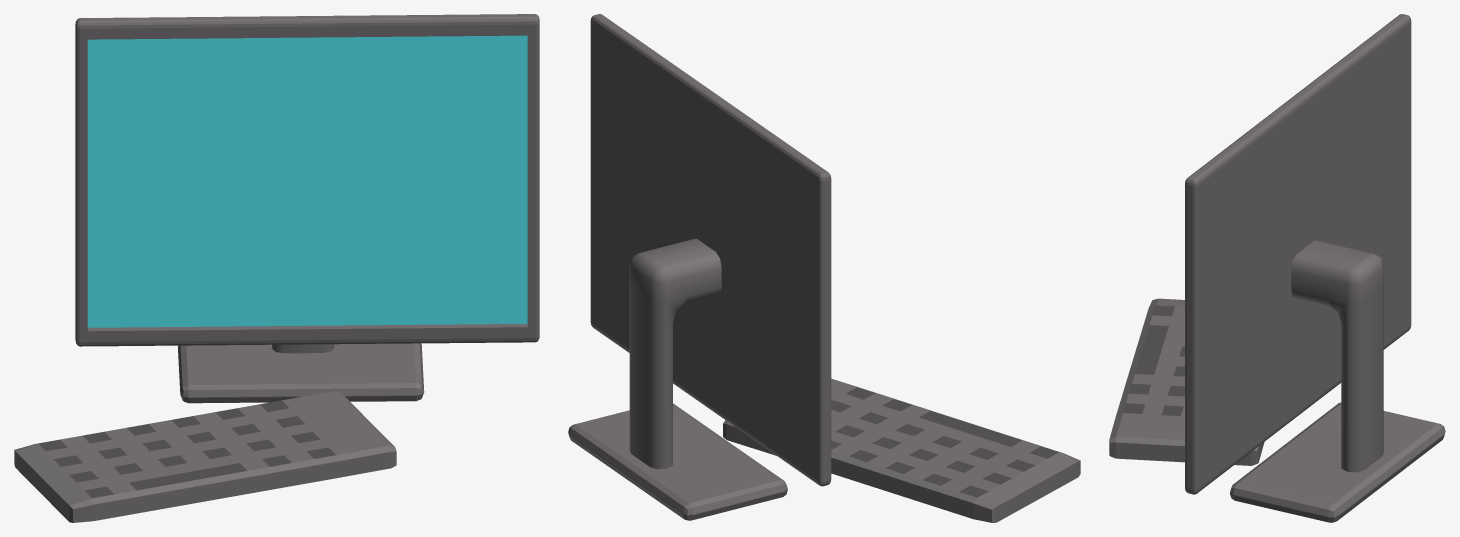
3 renders of one model, left to right at view 1: azimuth 30°, elevation 25°; view 2: azimuth 150°, elevation 25°; view 3: azimuth 270°, elevation 25°, orthographic. The views are drawn at different scales.
Parts seen in each view (by area): view 1: pk; view 2: pk; view 3: pk.
Boxes of the visible parts, x1=… form: pk: x1=14, y1=14, x2=539, y2=522; pk: x1=568, y1=14, x2=1080, y2=522; pk: x1=1109, y1=14, x2=1445, y2=522.
Bounding box in the file's own units: 30.46 × 22.64 × 18.72.
